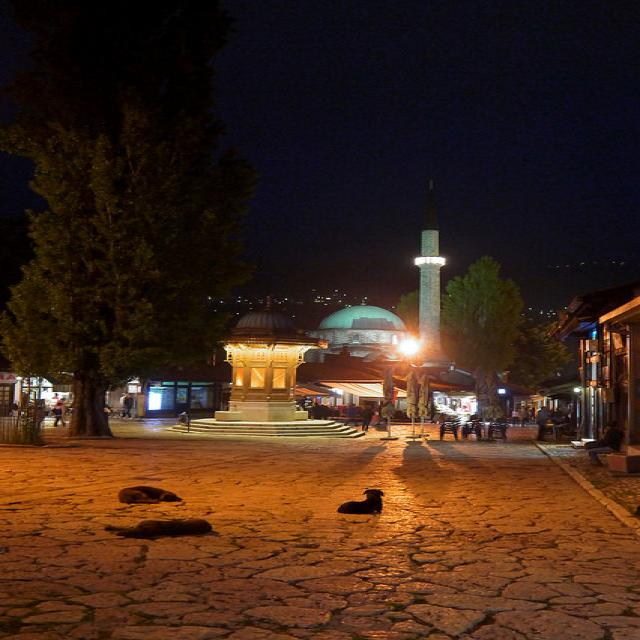Dog: (95, 478, 220, 567), (299, 469, 418, 539)
